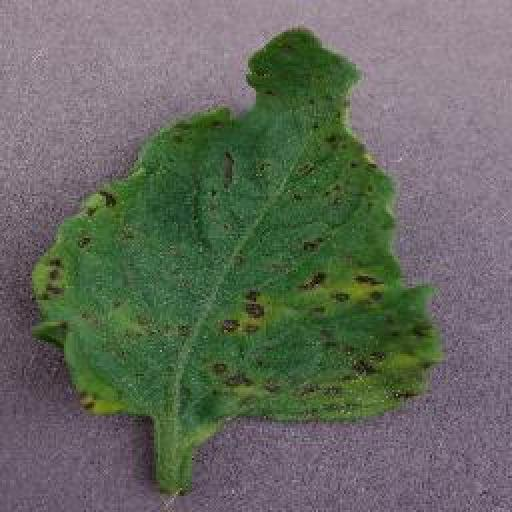Septoria: (28, 28, 446, 427)
